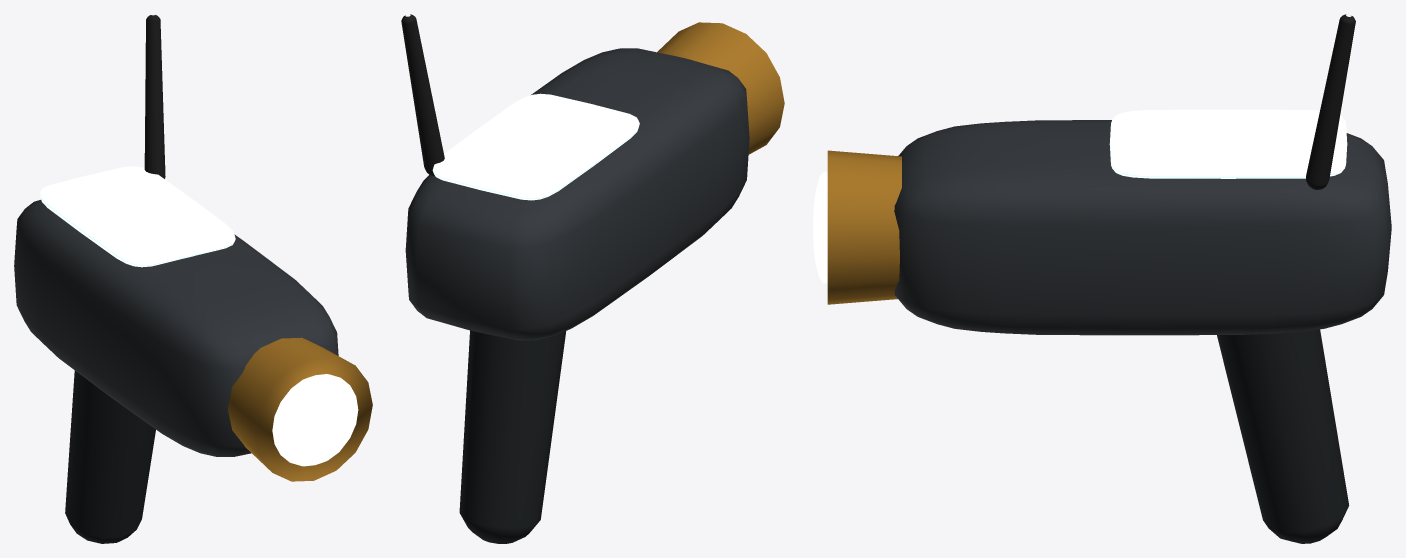
The model's file is field_device.glb.
3 views of the same model, side by side, from view 1: azimuth 30°, elevation 25°; view 2: azimuth 150°, elevation 25°; view 3: azimuth 270°, elevation 25° (orthographic). The views are drawn at different scales.
Visible parts, largest first — view 1: field_device; view 2: field_device; view 3: field_device.
Boxes of the visible parts, <box> form: field_device: <box>14,15,372,543</box>; field_device: <box>401,14,784,543</box>; field_device: <box>813,14,1391,543</box>.
Size of the model in its own units: 0.07 by 0.209 by 0.1949.
